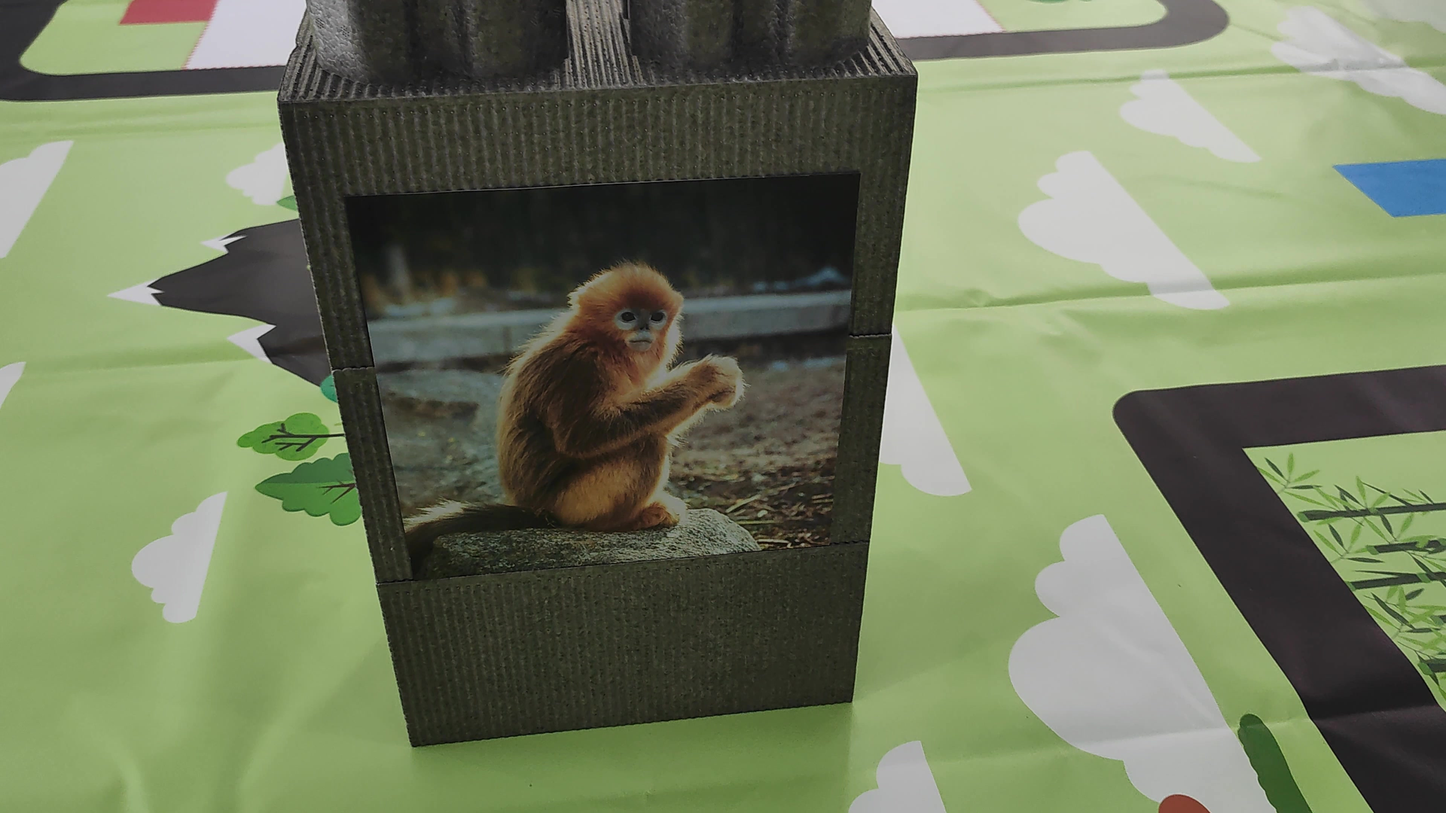monkey: (412, 218, 750, 575)
